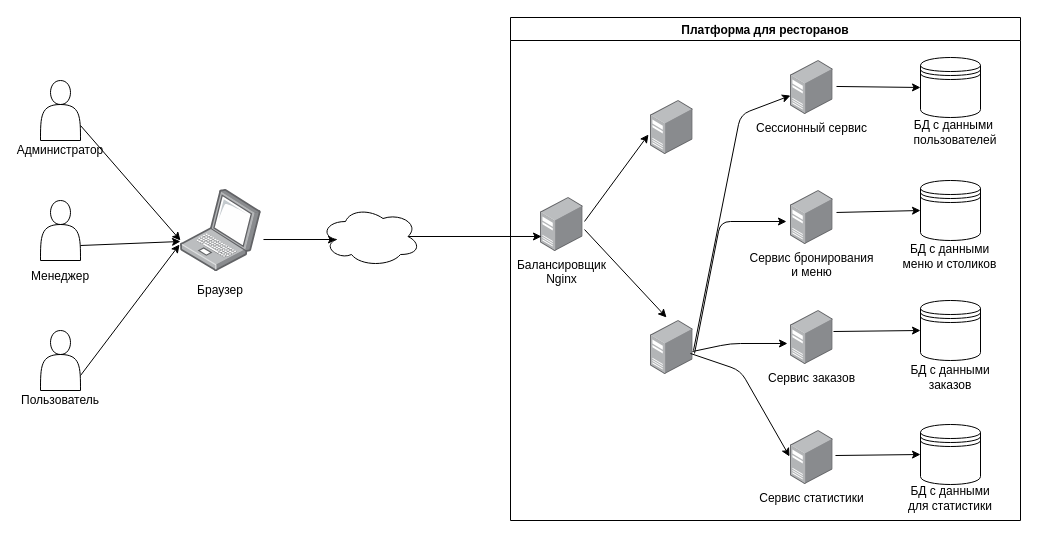
This 1038x538 diagram has some shape labels left out. The shapes that lost their labels are listed below. From the top down, each one's centre as x and y in pixels, then its label:
At (x=671, y=127): "Фронтенд".
At (x=370, y=236): "Internet".
At (x=671, y=347): "Агрегационный сервис".
